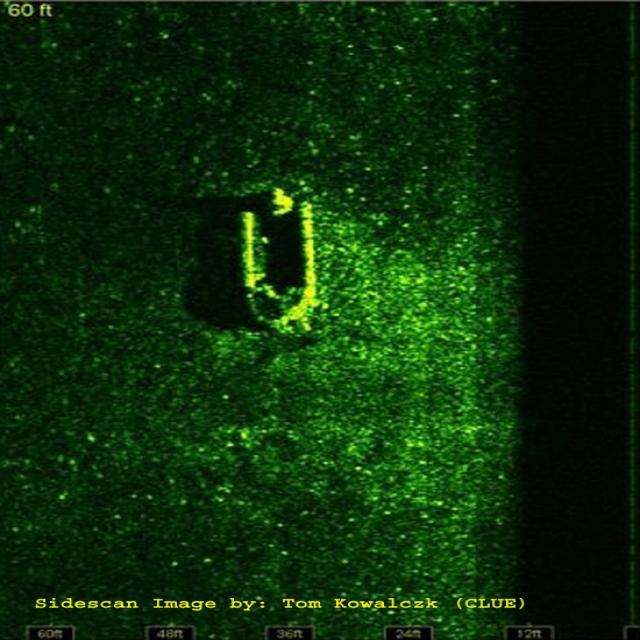ship: (235, 184, 334, 336)
